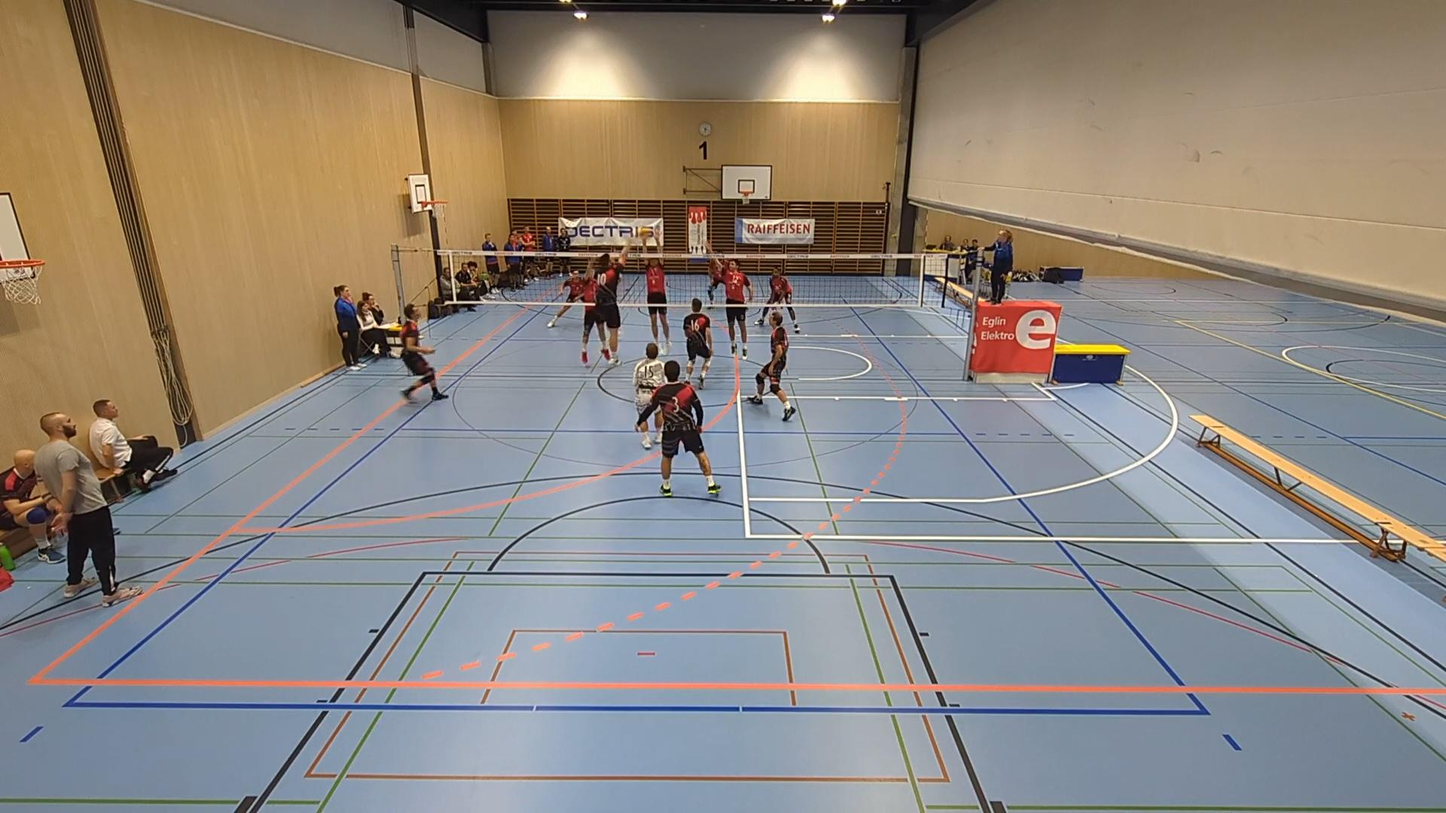attacco: (583, 242, 642, 369)
muro: (636, 231, 676, 360)
